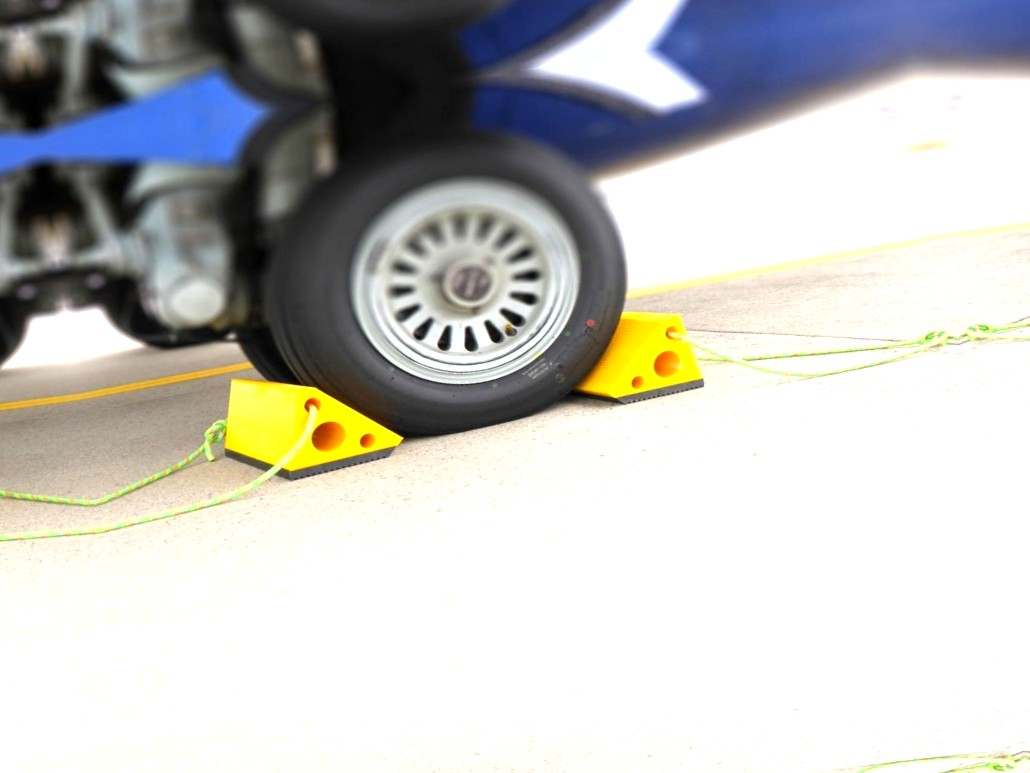chock: (215, 352, 410, 491), (559, 299, 709, 412)
wheel: (251, 111, 648, 457)
